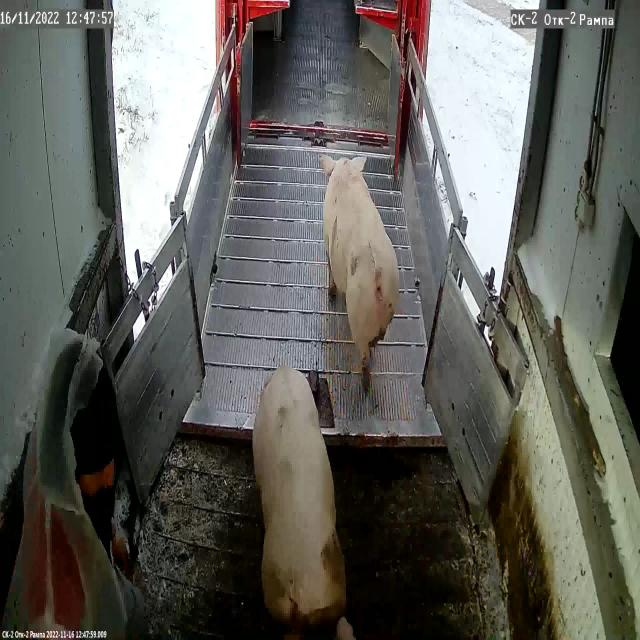pig: (252, 367, 356, 640), (322, 156, 400, 371)
